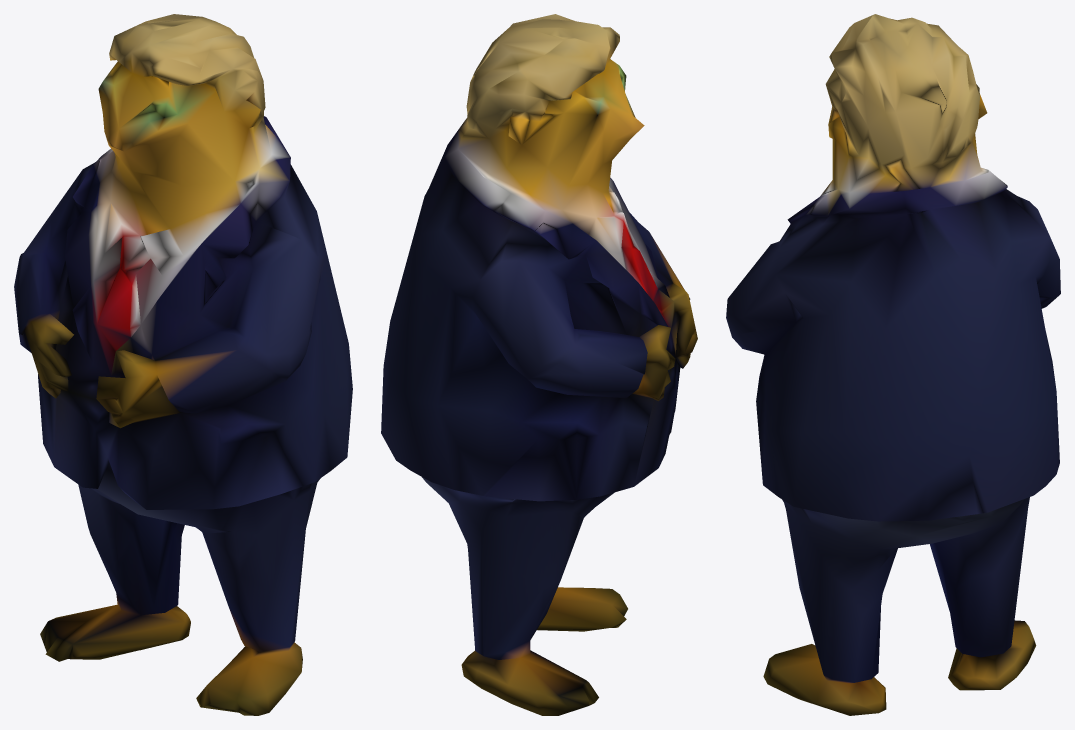
The model's file is spectator.glb.
The picture shows the model from 3 angles, left to right: view 1: azimuth 30°, elevation 25°; view 2: azimuth 150°, elevation 25°; view 3: azimuth 270°, elevation 25°; orthographic projection. The views are drawn at different scales.
Parts seen in each view (by area): view 1: spectator; view 2: spectator; view 3: spectator.
Part boxes in pixels (box(x1,y1,x2,y2)): spectator: box(14, 14, 352, 715); spectator: box(381, 14, 697, 715); spectator: box(726, 14, 1060, 715).
Bounding box in the file's own units: 0.4984 × 1.09 × 0.5153.
